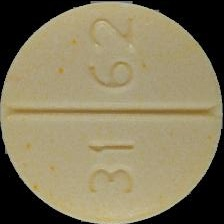67046-216: (0, 0, 224, 224)
